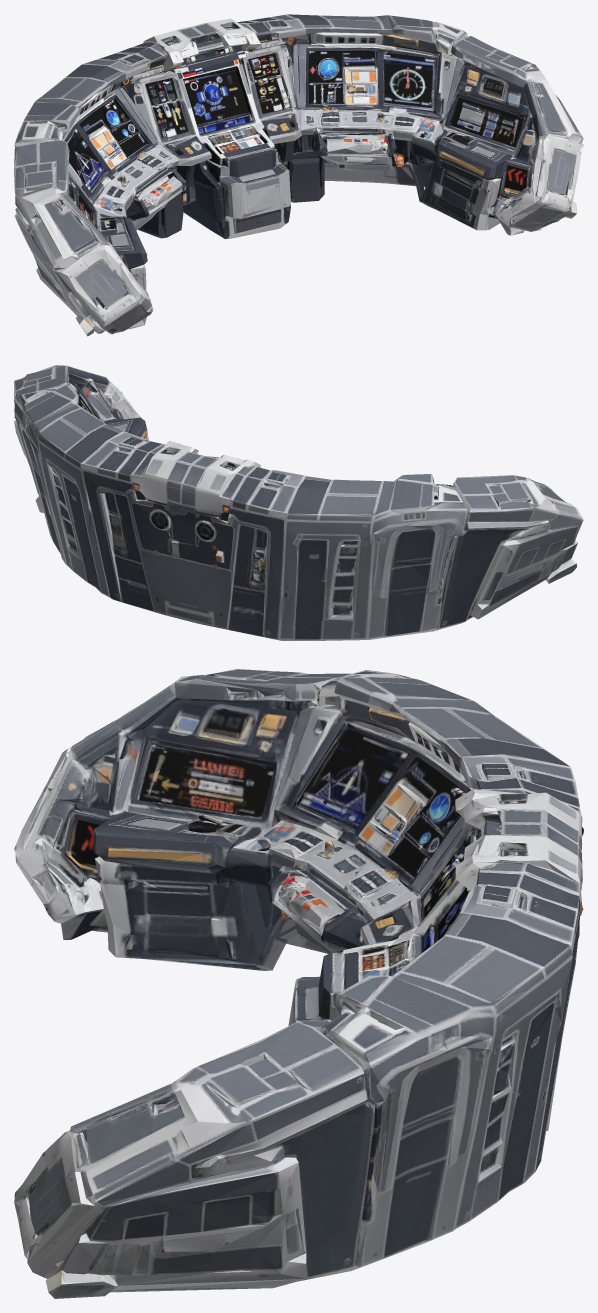
The model's file is heavy_cockpit.glb.
The picture shows the model from 3 angles, top to bottom: view 1: azimuth 30°, elevation 25°; view 2: azimuth 150°, elevation 25°; view 3: azimuth 270°, elevation 25°; orthographic projection. The views are drawn at different scales.
Visible parts, largest first — view 1: output_unwrapped; view 2: output_unwrapped; view 3: output_unwrapped.
Boxes of the visible parts, left/top/right/bottom form: output_unwrapped: left=14, top=14, right=583, bottom=336; output_unwrapped: left=14, top=365, right=583, bottom=640; output_unwrapped: left=14, top=669, right=583, bottom=1298.
Bounding box in the file's own units: 1.9 × 0.5538 × 0.9989.
1 material, 1 textured.
